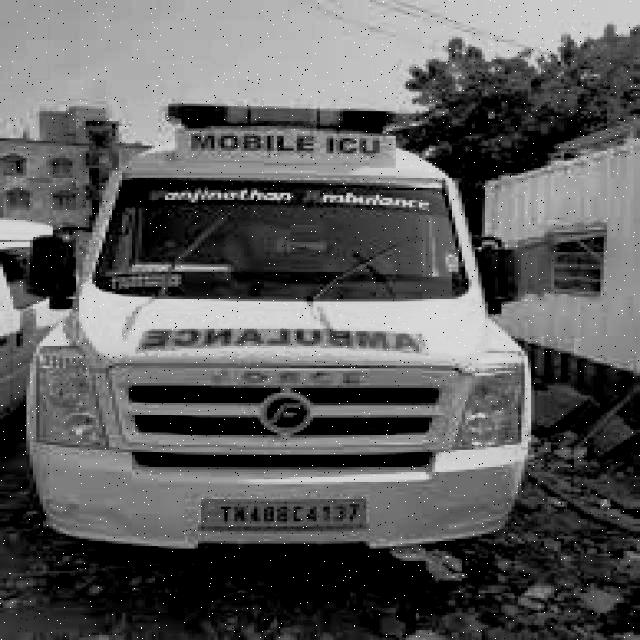LCV: (26, 105, 529, 552)
